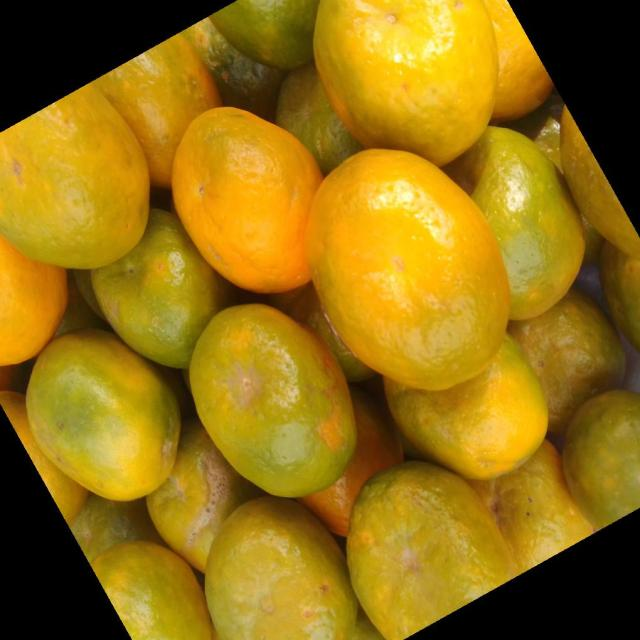fresh orange: (1, 1, 638, 638), (304, 146, 512, 390), (312, 440, 522, 636), (188, 305, 354, 497), (312, 0, 499, 166), (170, 104, 323, 294), (386, 332, 568, 490), (0, 82, 151, 269), (26, 332, 180, 502), (453, 126, 584, 319), (89, 210, 233, 370), (467, 420, 602, 584), (206, 498, 358, 636), (92, 34, 222, 184), (148, 424, 266, 574), (90, 543, 219, 637), (559, 102, 635, 260), (3, 392, 88, 527), (276, 63, 366, 176), (208, 1, 324, 71)
